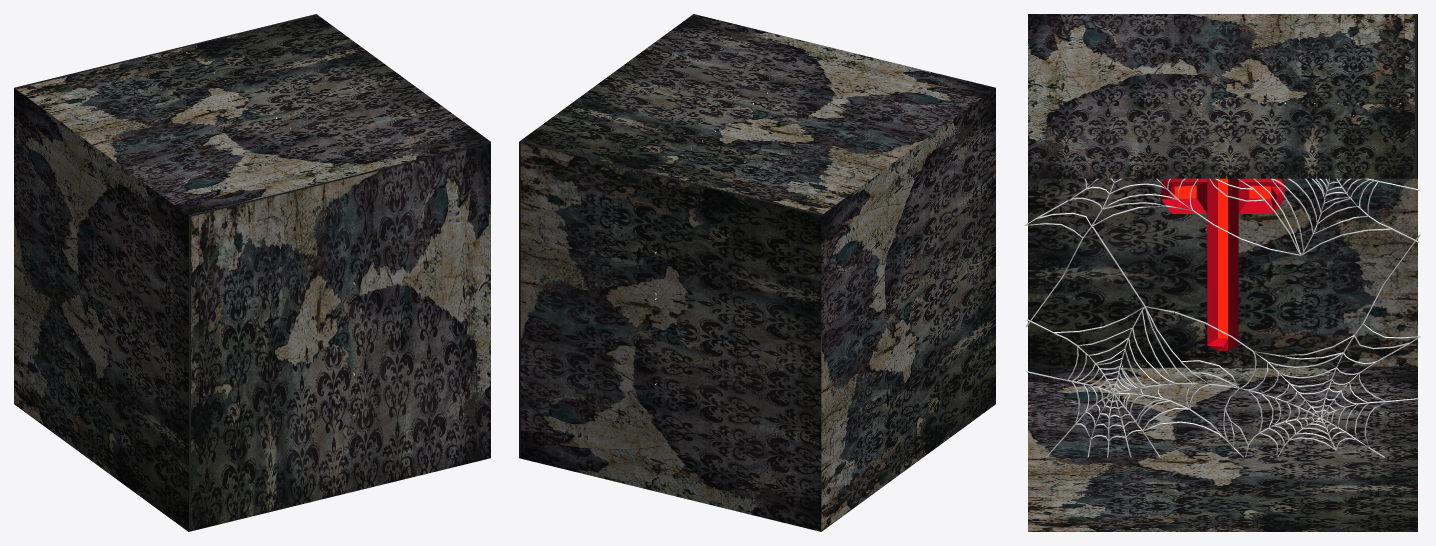
The model's file is spiderWeb.glb.
The picture shows the model from 3 angles, left to right: view 1: azimuth 30°, elevation 25°; view 2: azimuth 150°, elevation 25°; view 3: azimuth 270°, elevation 25°; orthographic projection. The views are drawn at different scales.
Parts seen in each view (by area): view 1: Cube_3; view 2: Cube_3; view 3: Cube_3, web.003_5, Cube.001_7, web.001_1.
Part boxes in pixels (box(x1,y1,x2,y2)): Cube_3: box(14, 14, 490, 531); Cube_3: box(519, 14, 995, 531); Cube_3: box(1028, 14, 1417, 531); web.003_5: box(1026, 226, 1420, 457); Cube.001_7: box(1161, 178, 1284, 350); web.001_1: box(1025, 102, 1419, 327).
Bounding box in the file's own units: 6.29 × 6.36 × 6.41.
4 materials, 1 textured.
